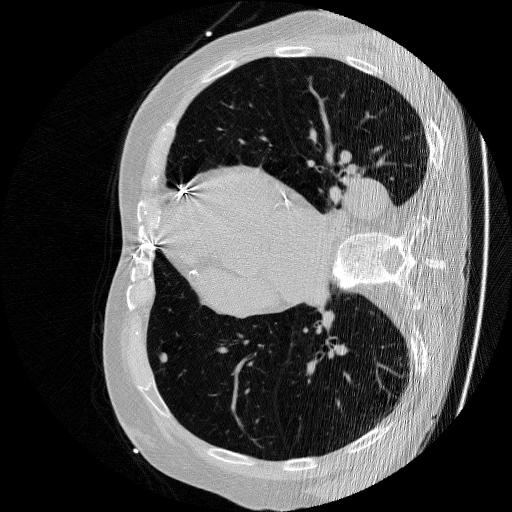nodule: (157, 352, 171, 366)
